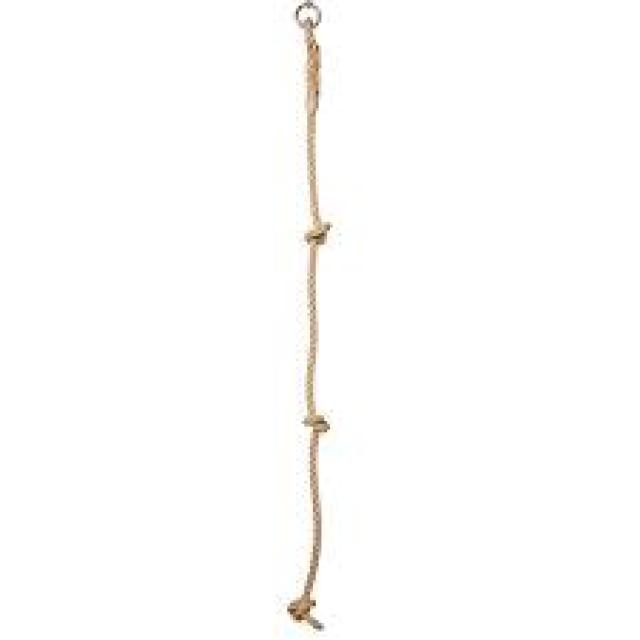rope: (263, 0, 364, 640)
